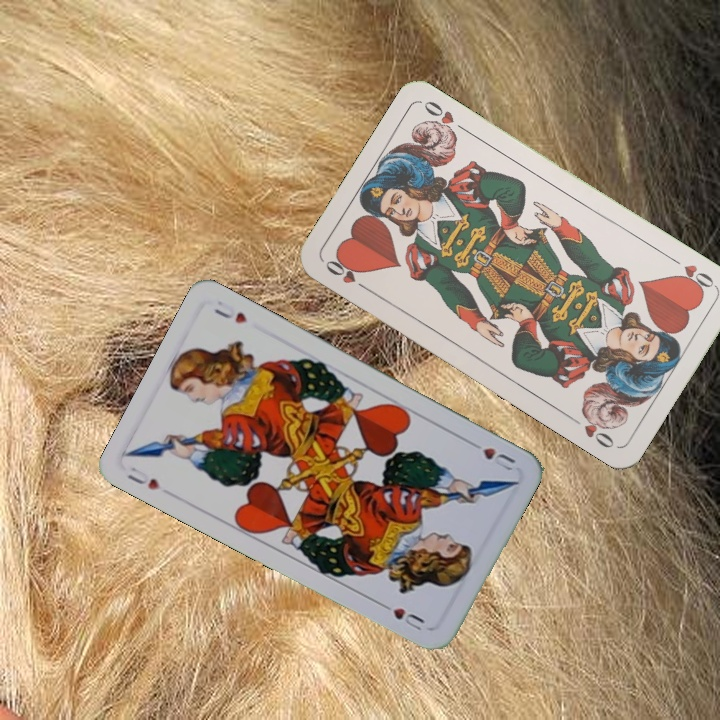HO: (666, 252, 719, 295), (321, 253, 373, 295)
HU: (464, 439, 518, 474), (123, 462, 163, 493)
